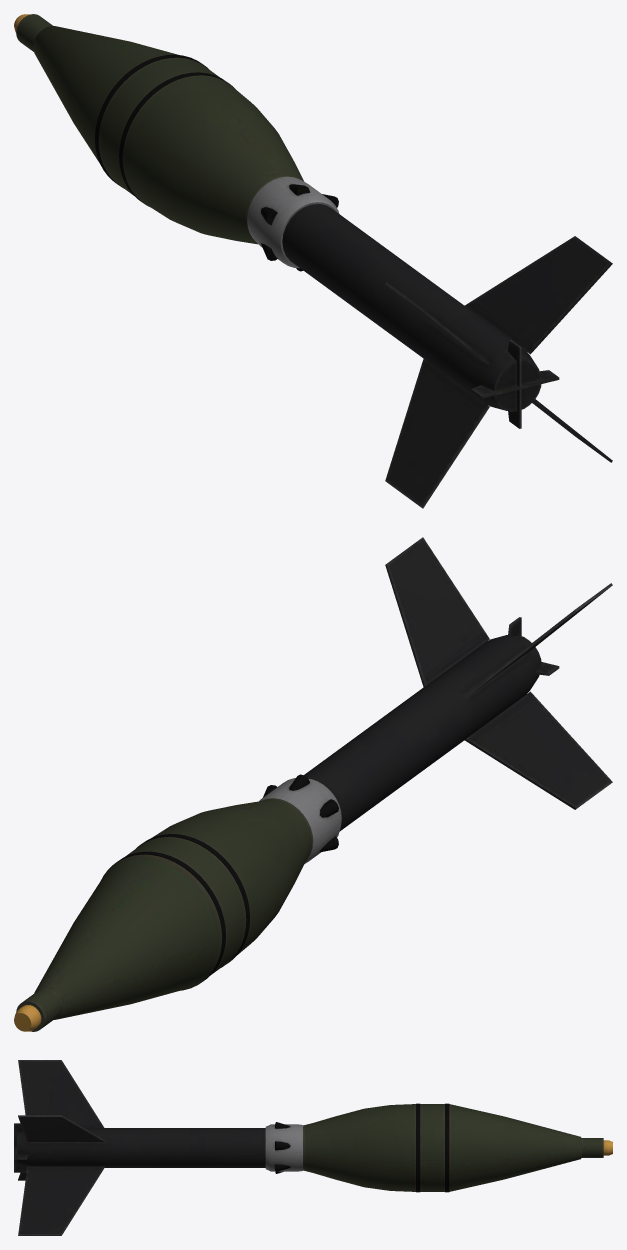
3 views of the same model, one above another, from view 1: azimuth 30°, elevation 25°; view 2: azimuth 150°, elevation 25°; view 3: azimuth 270°, elevation 25° (orthographic). The views are drawn at different scales.
Visible parts, largest first — view 1: pg7v_body; view 2: pg7v_body; view 3: pg7v_body.
Boxes of the visible parts, left/top/right/bottom form: pg7v_body: left=14, top=14, right=612, bottom=508; pg7v_body: left=14, top=537, right=612, bottom=1031; pg7v_body: left=14, top=1060, right=612, bottom=1235.
Bounding box in the file's own units: 0.1284 × 0.1284 × 0.578.
1 material, 1 textured.
